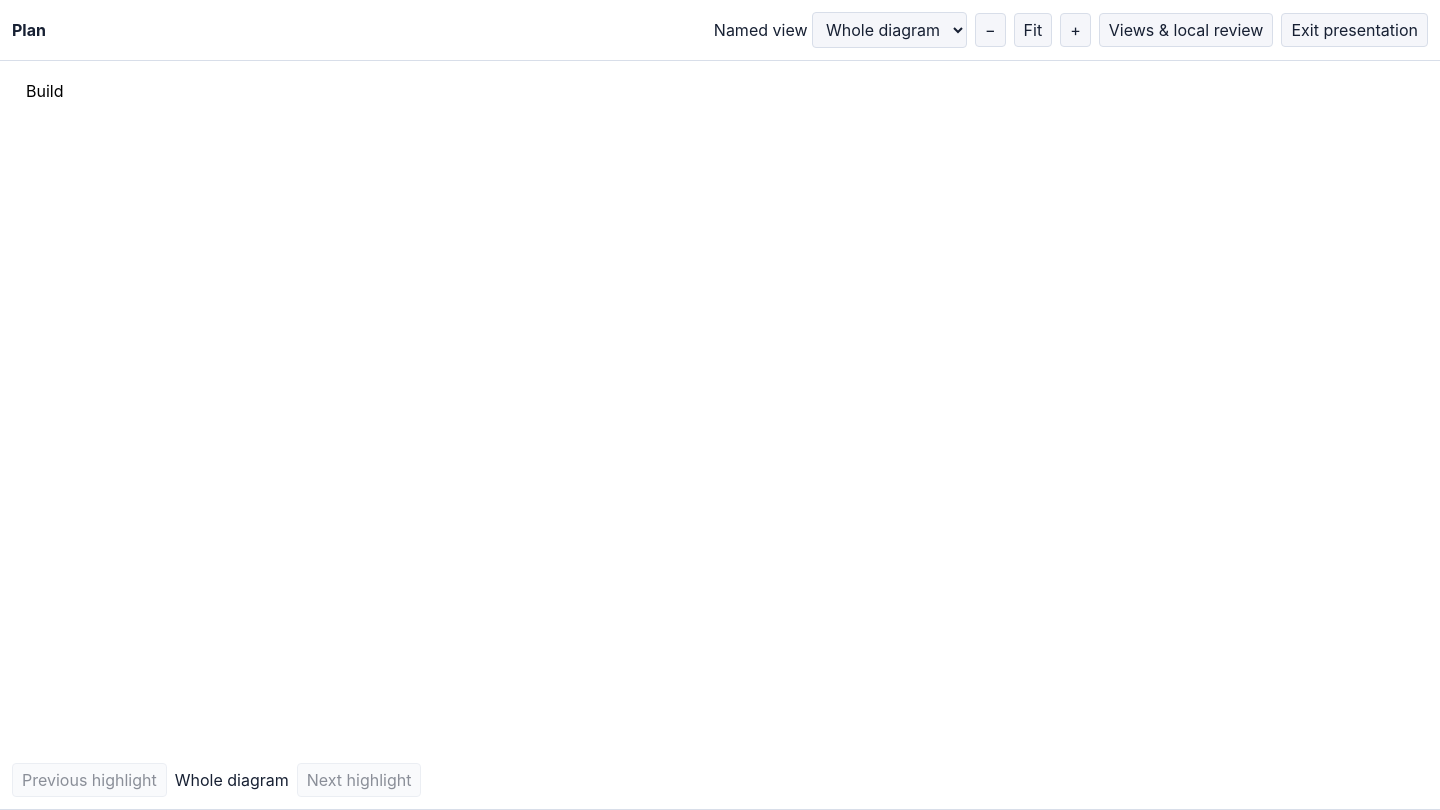
Test case: retains a draft note when browser storage is full
The width and height of the screenshot is (1440, 810).
Click the button "Views & local review": (1186, 30) [1099,13,1274,47]
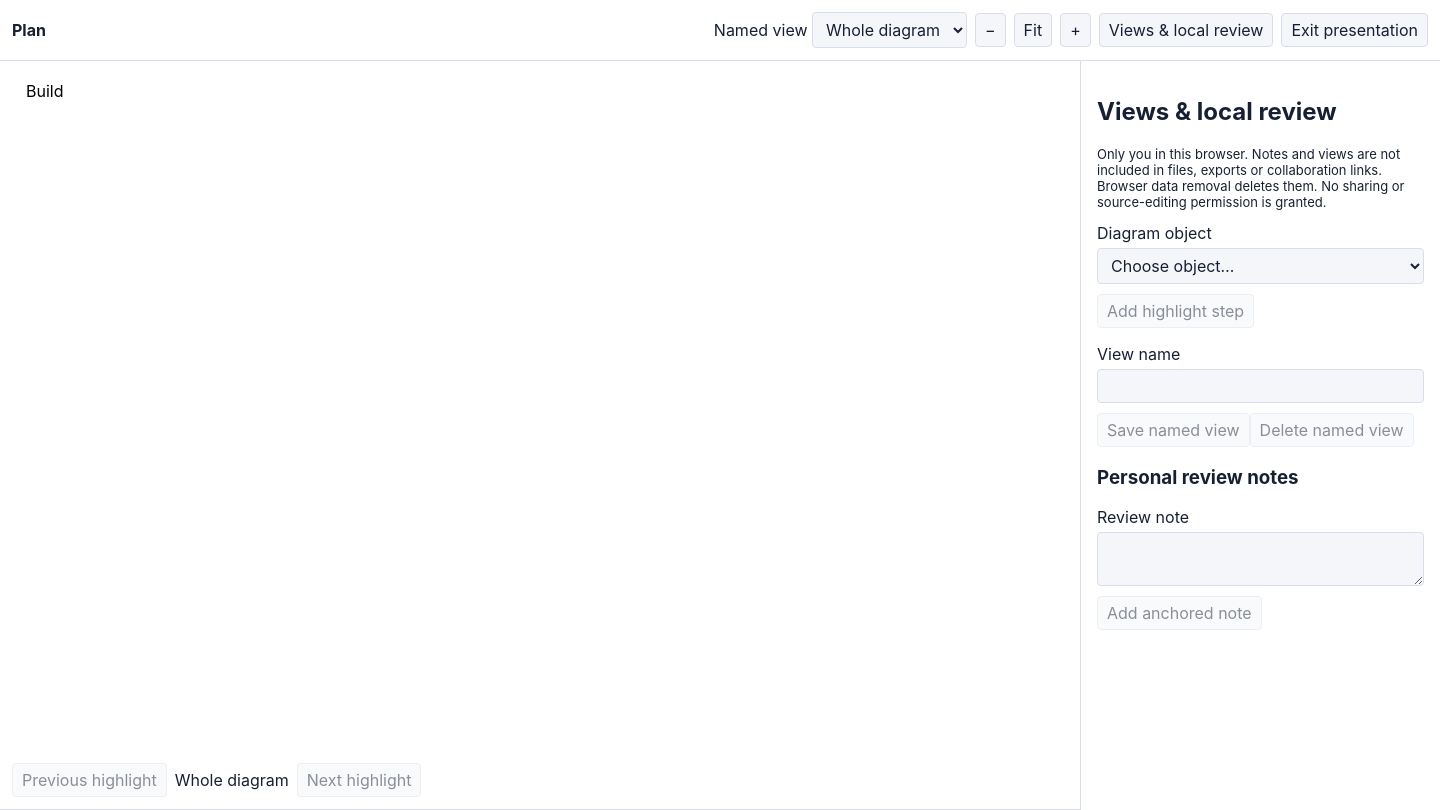
Select "Build" in the dropdown labelled "Diagram object": (1260, 266) [1097,248,1424,284]
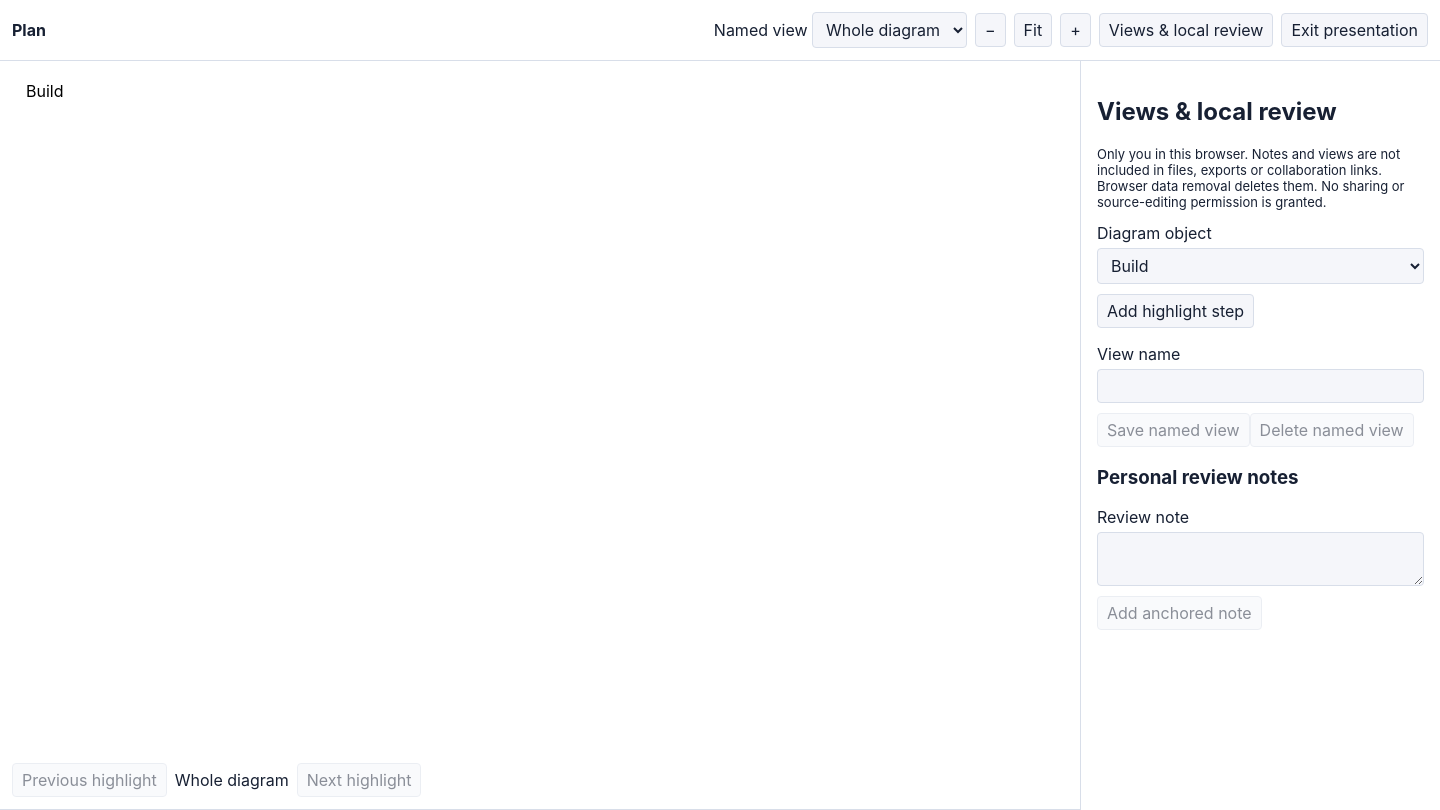
In the text box labelled "Review note": (1260, 559) [1097,532,1424,586], type "Keep my draft"
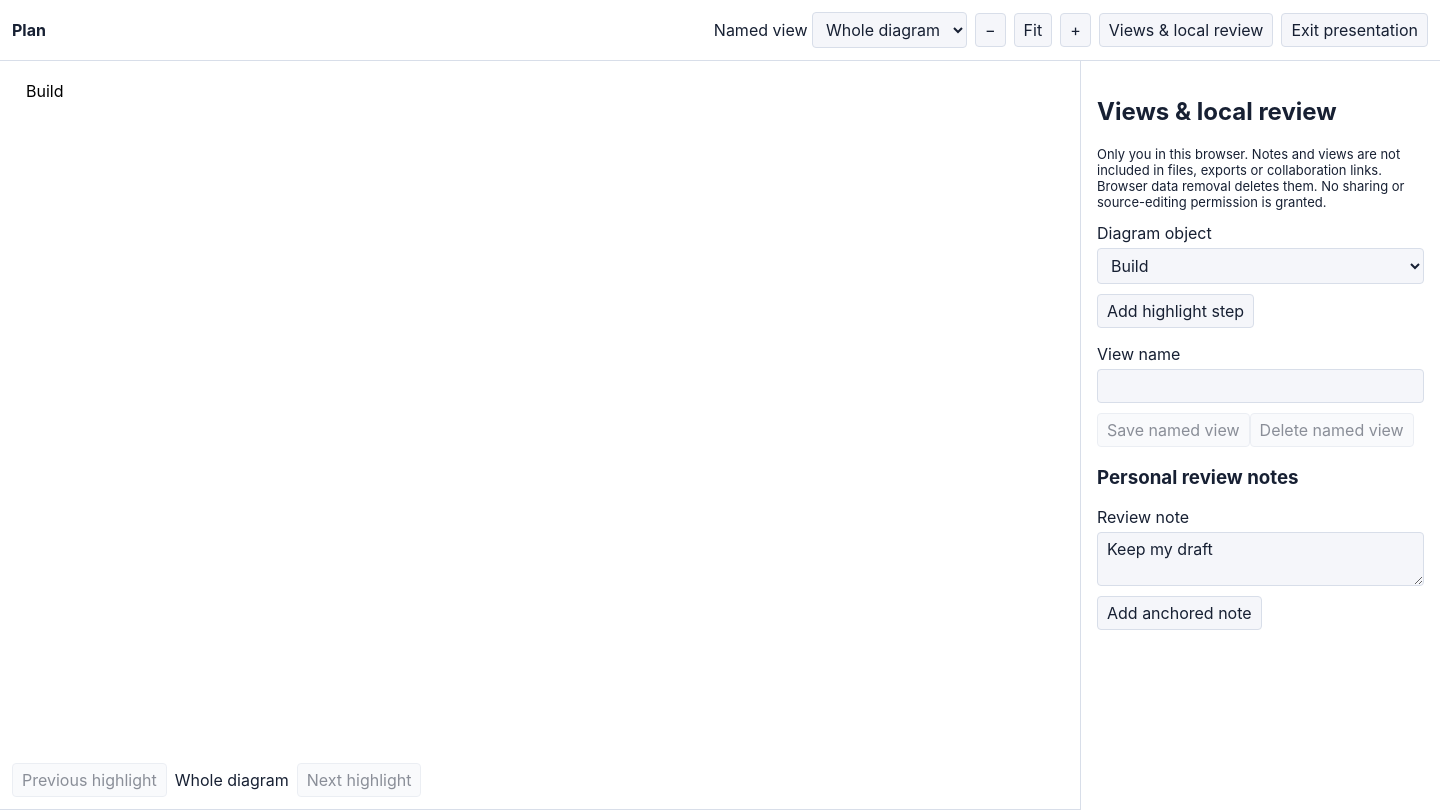
Click the button "Add anchored note": (1179, 613) [1097,596,1262,630]
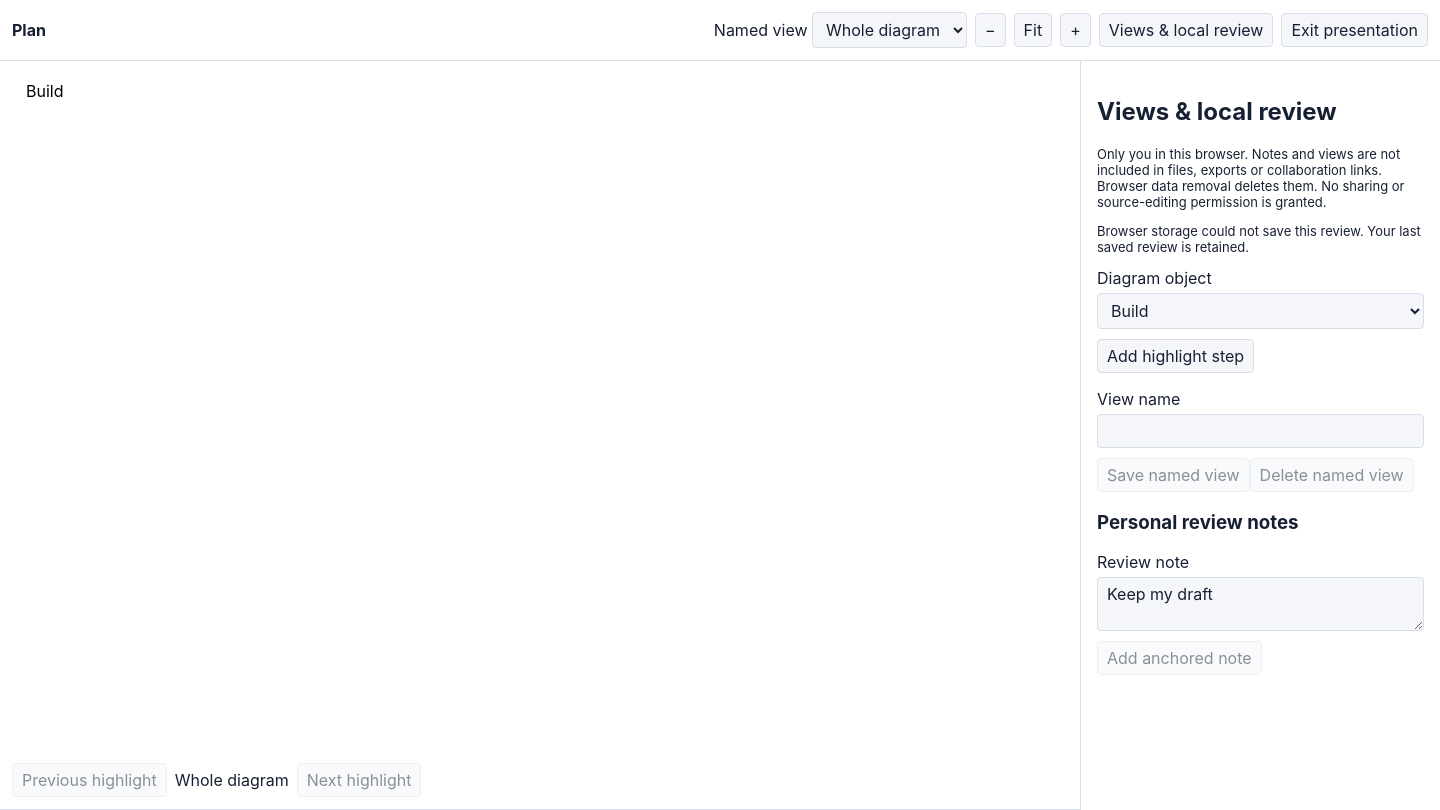
Now the 1st message shows "could not save", box [1097,223,1421,255]
